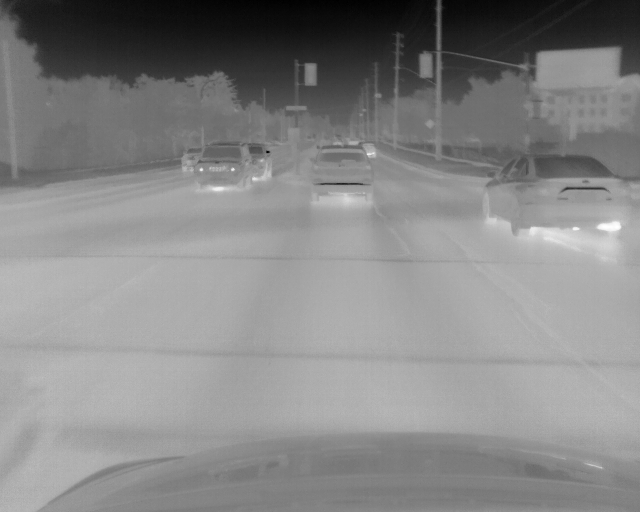car: (481, 155, 632, 239), (311, 145, 372, 205), (196, 143, 252, 192), (250, 141, 273, 182), (181, 147, 202, 170), (363, 140, 377, 159)
